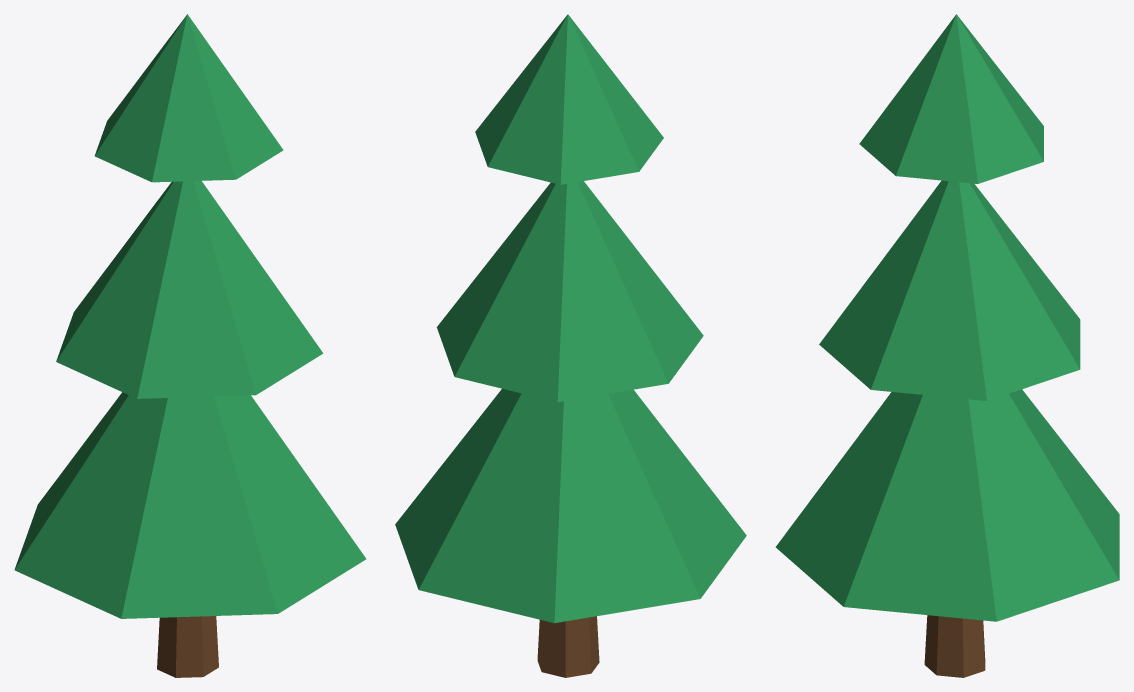
Rendered from pine.glb.
3 renders of one model, left to right at view 1: azimuth 30°, elevation 25°; view 2: azimuth 150°, elevation 25°; view 3: azimuth 270°, elevation 25°, orthographic.
Visible parts, largest first — view 1: tree-pine; view 2: tree-pine; view 3: tree-pine.
Boxes of the visible parts, <box> form: tree-pine: <box>14,14,366,677</box>; tree-pine: <box>395,14,746,677</box>; tree-pine: <box>775,14,1119,677</box>.
Size of the model in its own units: 0.8845 by 1.8 by 0.8623.
